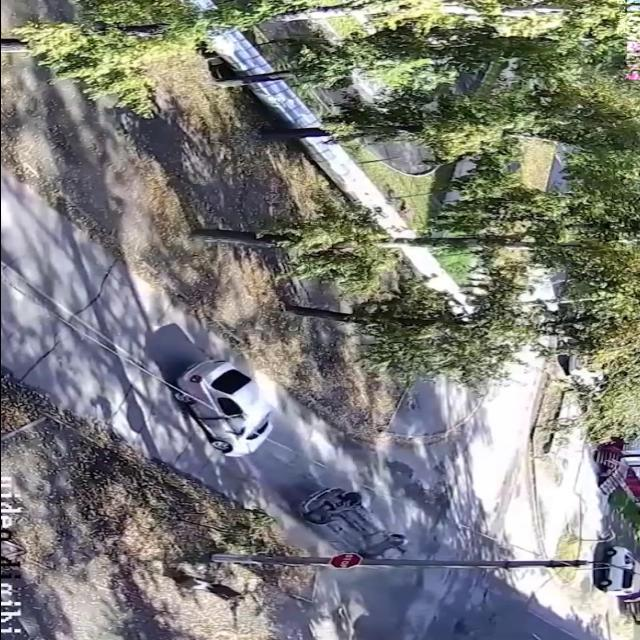accident: (164, 355, 416, 573)
